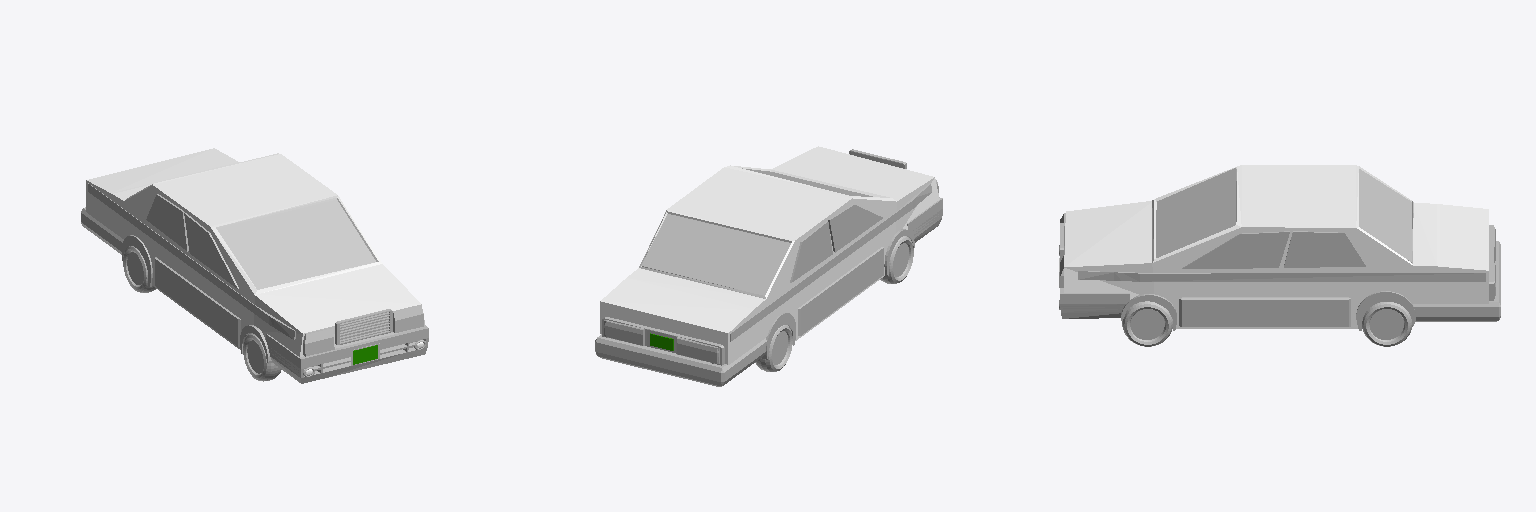
3 renders of one model, left to right at view 1: azimuth 30°, elevation 25°; view 2: azimuth 150°, elevation 25°; view 3: azimuth 270°, elevation 25°, orthographic.
Visible parts, largest first — view 1: Cube, 立方体.012_立方体.015, 立方体_立方体.001, 立方体.010_立方体.011, 立方体.014_立方体.017, 立方体.015_立方体.018, 立方体.005_立方体.006, 立方体.006_立方体.007, 立方体.003_立方体.004, 立方体.004_立方体.005, Torus.005_Torus.008; view 2: Cube, 立方体.013_立方体.016, 立方体.006_立方体.007, 立方体.010_立方体.011, 立方体.014_立方体.017, 立方体.015_立方体.018, 立方体.007_立方体.008, 立方体_立方体.001, 立方体.008_立方体.009, Torus.006_Torus.009, Torus.005_Torus.008; view 3: Cube, 立方体.014_立方体.017, 立方体.011_立方体.014, 立方体.012_立方体.015, 立方体.015_立方体.018, 立方体.013_立方体.016, 立方体.006_立方体.007, 立方体_立方体.001, Torus.003, Torus.004_Torus.007, 円柱.002, 円柱.003_円柱.006 (+2 smaller).
Boxes of the visible parts, box(x1,y1,x2,y2) form: Cube: box(86, 148, 425, 356); 立方体.012_立方体.015: box(217, 200, 375, 289); 立方体_立方体.001: box(266, 326, 428, 383); 立方体.010_立方体.011: box(146, 194, 238, 288); 立方体.014_立方体.017: box(155, 257, 240, 346); 立方体.015_立方体.018: box(88, 183, 295, 339); 立方体.005_立方体.006: box(335, 309, 392, 344); 立方体.006_立方体.007: box(81, 207, 123, 254); 立方体.003_立方体.004: box(303, 328, 334, 356); 立方体.004_立方体.005: box(393, 306, 423, 332); Torus.005_Torus.008: box(243, 333, 281, 381); Cube: box(600, 146, 939, 364); 立方体.013_立方体.016: box(641, 214, 790, 295); 立方体.006_立方体.007: box(595, 334, 766, 386); 立方体.010_立方体.011: box(790, 204, 882, 282); 立方体.014_立方体.017: box(798, 247, 883, 335); 立方体.015_立方体.018: box(730, 183, 931, 341); 立方体.007_立方体.008: box(604, 320, 719, 363); 立方体_立方体.001: box(907, 197, 942, 242); 立方体.008_立方体.009: box(602, 317, 724, 365); Torus.006_Torus.009: box(755, 325, 792, 371); Torus.005_Torus.008: box(880, 236, 913, 283); Cube: box(1064, 165, 1488, 328); 立方体.014_立方体.017: box(1179, 297, 1350, 326); 立方体.011_立方体.014: box(1182, 231, 1365, 268); 立方体.012_立方体.015: box(1156, 168, 1236, 257); 立方体.015_立方体.018: box(1078, 271, 1485, 281); 立方体.013_立方体.016: box(1359, 169, 1411, 262); 立方体.006_立方体.007: box(1413, 241, 1500, 321); 立方体_立方体.001: box(1060, 288, 1129, 318); Torus.003: box(1122, 301, 1172, 346); Torus.004_Torus.007: box(1362, 302, 1412, 346); 円柱.002: box(1130, 309, 1164, 339); 円柱.003_円柱.006: box(1370, 309, 1403, 339).
Bounding box in the file's own units: 2.93 × 2.44 × 8.17.
Materials: 31 (2 with a texture image).